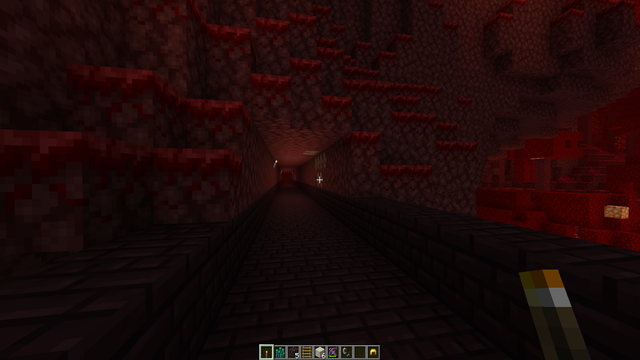quartz: (302, 148, 329, 193)
